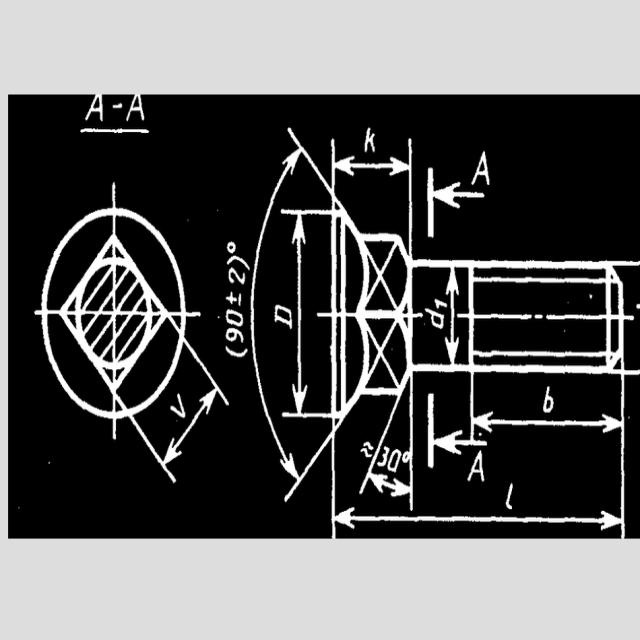marking_line: (334, 504, 621, 533), (288, 216, 311, 414), (473, 410, 622, 436), (435, 180, 491, 208), (364, 471, 412, 503), (437, 431, 488, 459), (334, 155, 410, 173)
numeric: (218, 306, 246, 350), (379, 448, 404, 475), (226, 265, 250, 286)
